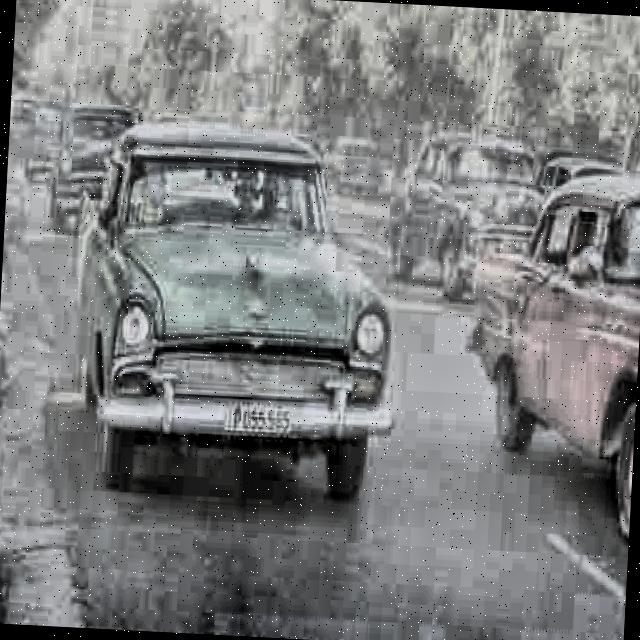license_plate: (224, 395, 298, 440)
